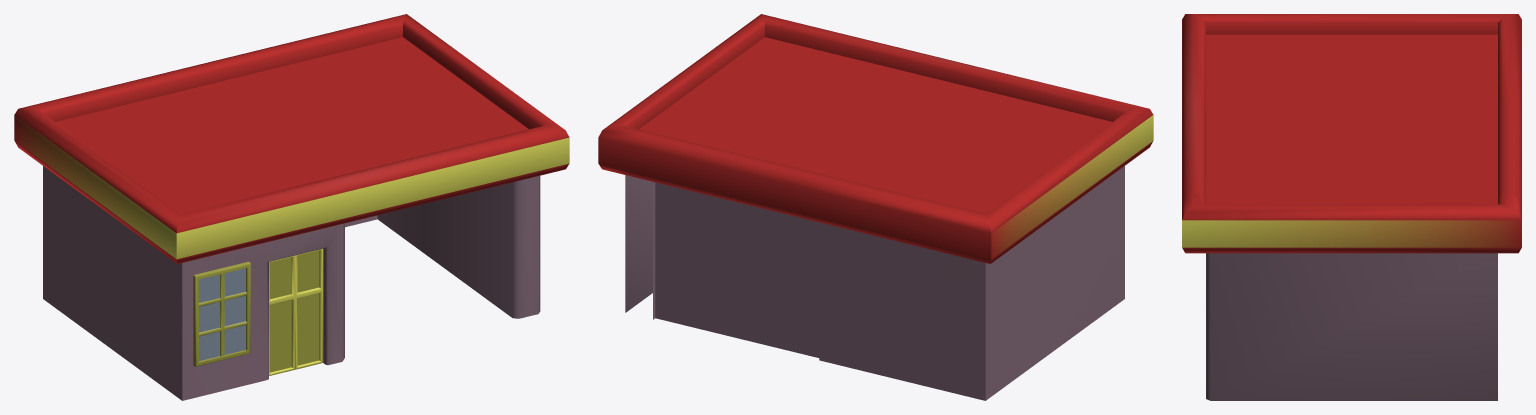
Rendered from oficina_p.fbx.
3 renders of one model, left to right at view 1: azimuth 30°, elevation 25°; view 2: azimuth 150°, elevation 25°; view 3: azimuth 270°, elevation 25°, orthographic. The views are drawn at different scales.
Visible parts, largest first — view 1: Oficina.P; view 2: Oficina.P; view 3: Oficina.P.
Boxes of the visible parts, x1,y1,x2,y2 form: Oficina.P: [14, 14, 569, 400]; Oficina.P: [598, 14, 1153, 400]; Oficina.P: [1182, 14, 1521, 400].
Bounding box in the file's own units: 1418 × 652 × 1014.
